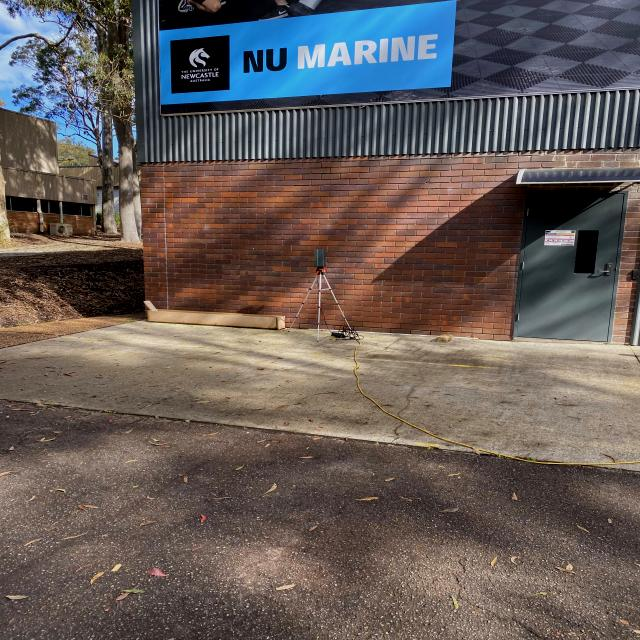matrix: (303, 238, 333, 278)
